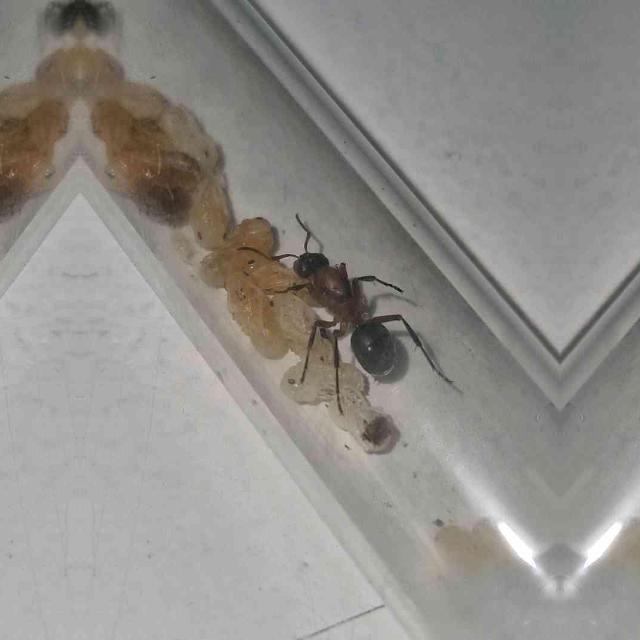Formica: (248, 218, 454, 382)
